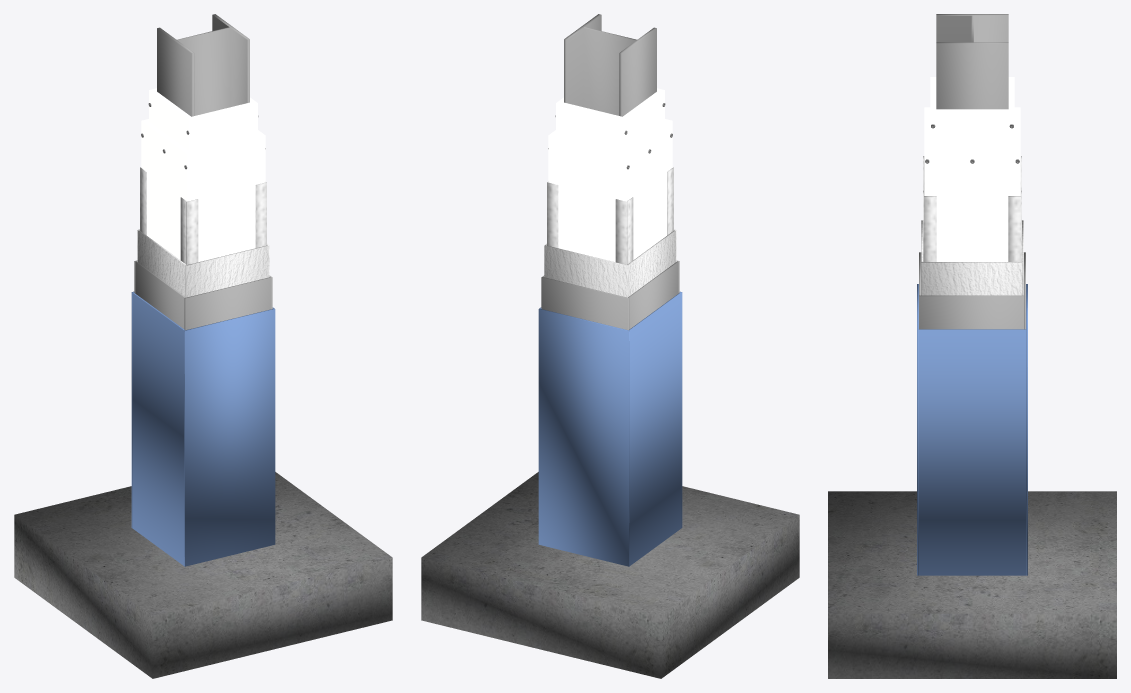
The model's file is fireprotactionglass.gltf.
3 renders of one model, left to right at view 1: azimuth 30°, elevation 25°; view 2: azimuth 150°, elevation 25°; view 3: azimuth 270°, elevation 25°, orthographic. The views are drawn at different scales.
Parts seen in each view (by area): view 1: Бетон - 10, Краска - Королевский Синий, Краска - Песочно-Бежевая, Металл - Хром 01, Краска - Светло-Серая, Штукатурка - Шероховатая Белая, Штукатурка - Высококачественн_88a1875, Краска - Белила Титановые; view 2: Бетон - 10, Краска - Королевский Синий, Краска - Песочно-Бежевая, Металл - Хром 01, Краска - Светло-Серая, Штукатурка - Шероховатая Белая, Штукатурка - Высококачественн_88a1875, Краска - Белила Титановые; view 3: Бетон - 10, Краска - Королевский Синий, Краска - Песочно-Бежевая, Металл - Хром 01, Краска - Светло-Серая, Штукатурка - Шероховатая Белая, Штукатурка - Высококачественн_88a1875, Краска - Белила Титановые.
Part boxes in pixels (x1,y1,x2,y2): Бетон - 10: (14, 472, 392, 678); Краска - Королевский Синий: (131, 291, 275, 566); Краска - Песочно-Бежевая: (141, 90, 260, 262); Металл - Хром 01: (157, 14, 249, 116); Краска - Светло-Серая: (134, 260, 272, 330); Штукатурка - Шероховатая Белая: (137, 229, 269, 297); Штукатурка - Высококачественн_88a1875: (140, 167, 266, 264); Краска - Белила Титановые: (142, 88, 265, 201); Бетон - 10: (421, 472, 799, 678); Краска - Королевский Синий: (538, 291, 682, 566); Краска - Песочно-Бежевая: (553, 90, 672, 262); Металл - Хром 01: (564, 14, 656, 116); Краска - Светло-Серая: (541, 260, 679, 330); Штукатурка - Шероховатая Белая: (544, 229, 676, 297); Штукатурка - Высококачественн_88a1875: (547, 167, 673, 264); Краска - Белила Титановые: (548, 88, 671, 201); Бетон - 10: (828, 491, 1116, 678); Краска - Королевский Синий: (917, 284, 1027, 575); Краска - Песочно-Бежевая: (924, 79, 1020, 261); Металл - Хром 01: (936, 14, 1008, 109); Краска - Светло-Серая: (919, 252, 1025, 329); Штукатурка - Шероховатая Белая: (921, 220, 1023, 295); Штукатурка - Высококачественн_88a1875: (923, 156, 1021, 261); Краска - Белила Титановые: (924, 77, 1020, 146).
Size of the model in its own units: 0.8 by 1.8 by 0.8.
Materials: 10 (3 with a texture image).
